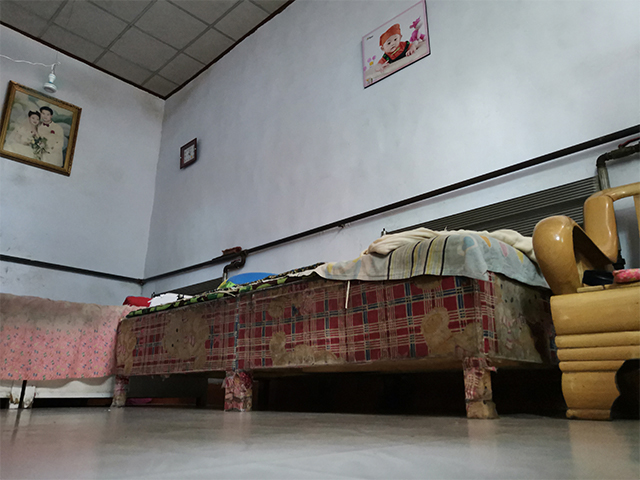bed: (108, 225, 562, 420), (1, 289, 144, 410)
stool: (530, 180, 640, 423)
